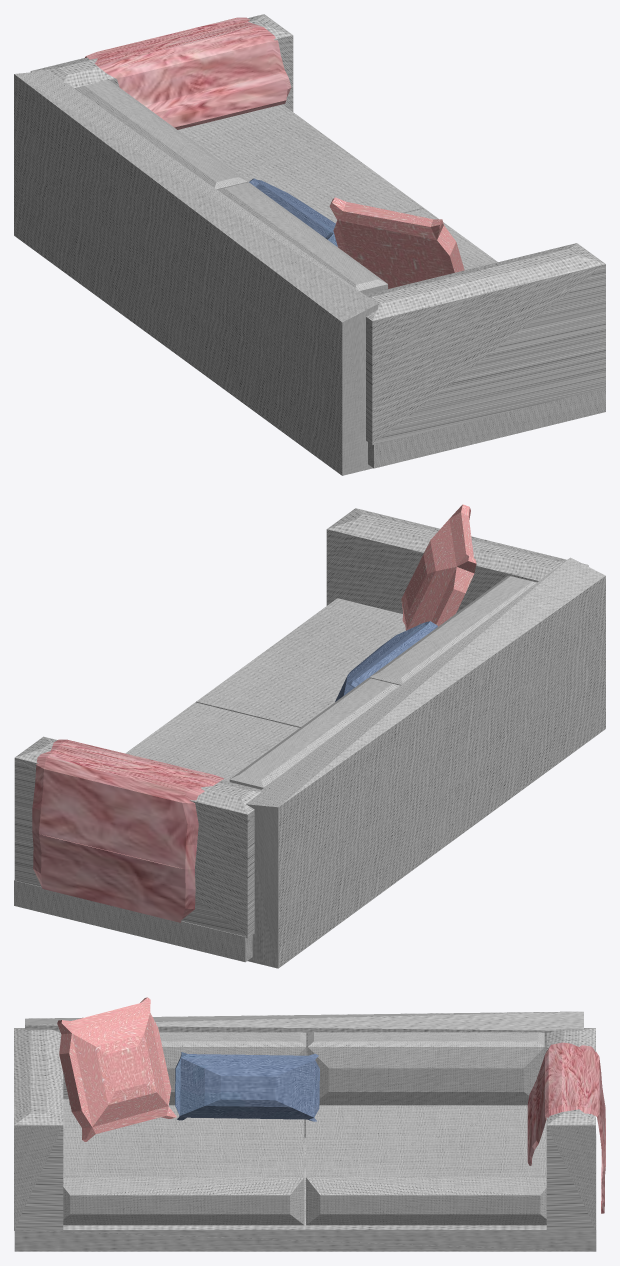
Rendered from couch.fbx.
The picture shows the model from 3 angles, top to bottom: view 1: azimuth 30°, elevation 25°; view 2: azimuth 150°, elevation 25°; view 3: azimuth 270°, elevation 25°; orthographic projection. The views are drawn at different scales.
Visible parts, largest first — view 1: Cube.002, Cube.001, Blanket, Cube.003, Cube.004, Pink Pillow, Cube, Blue Pillow; view 2: Cube.002, Blanket, Cube.001, Cube.003, Cube.004, Cube, Pink Pillow, Blue Pillow; view 3: Cube.003, Cube.004, Cube.001, Cube, Pink Pillow, Blue Pillow, Cube.002, Blanket.
Boxes of the visible parts, <box> form: Cube.002: <box>14,71,377,475</box>; Cube.001: <box>30,14,605,444</box>; Blanket: <box>84,17,291,129</box>; Cube.003: <box>178,104,497,270</box>; Cube.004: <box>74,80,387,294</box>; Pink Pillow: <box>329,197,464,288</box>; Cube: <box>368,388,605,468</box>; Blue Pillow: <box>249,178,337,246</box>; Cube.002: <box>246,557,605,968</box>; Blanket: <box>32,739,223,922</box>; Cube.001: <box>14,508,588,938</box>; Cube.003: <box>125,598,405,781</box>; Cube.004: <box>229,575,536,789</box>; Cube: <box>14,880,252,962</box>; Pink Pillow: <box>401,504,476,630</box>; Blue Pillow: <box>335,621,437,701</box>; Cube.003: <box>63,1099,546,1225</box>; Cube.004: <box>69,1032,544,1105</box>; Cube.001: <box>14,1028,595,1230</box>; Cube: <box>14,1134,596,1251</box>; Pink Pillow: <box>57,997,176,1141</box>; Blue Pillow: <box>175,1052,319,1121</box>; Cube.002: <box>25,1011,583,1137</box>; Blanket: <box>527,1042,605,1213</box>.
Bounding box in the file's own units: 323 × 252 × 752.
